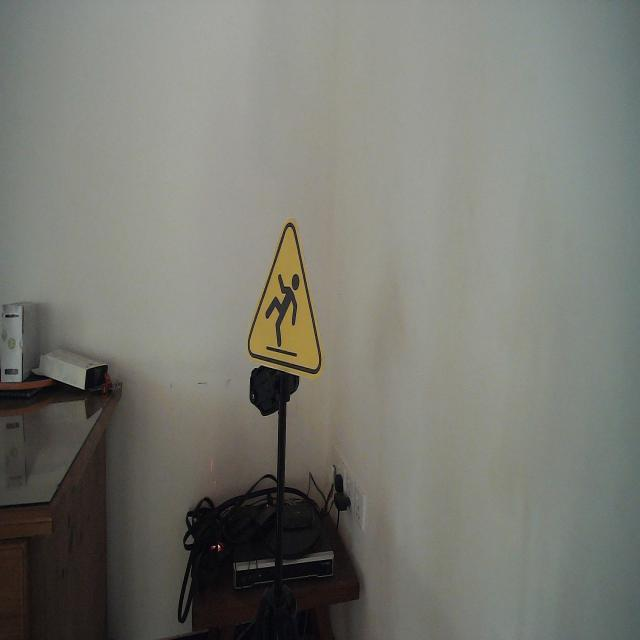slippery_sign: (245, 218, 325, 384)
